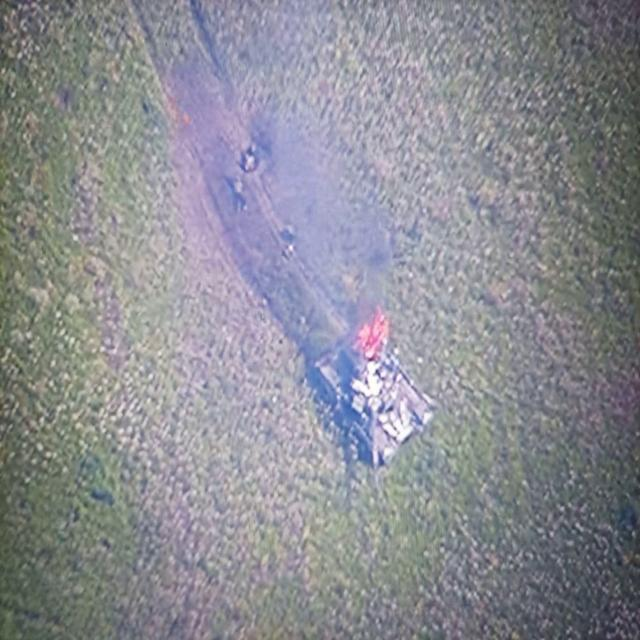MBT: (315, 318, 438, 502)
